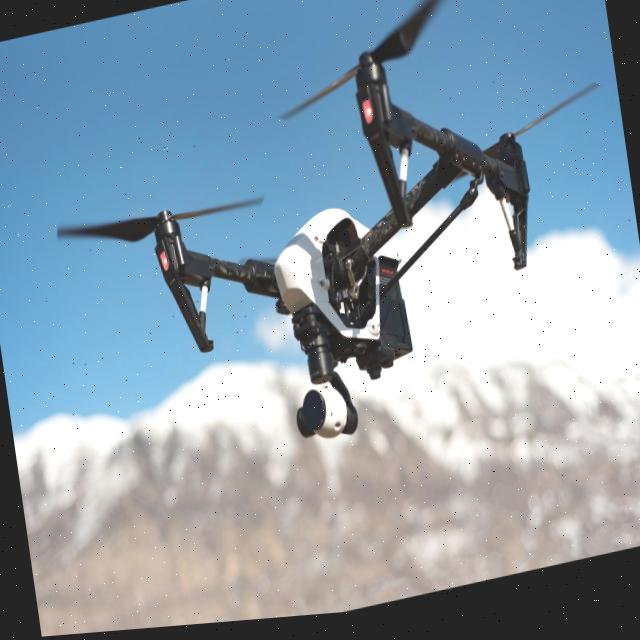drone: (25, 0, 640, 500)
